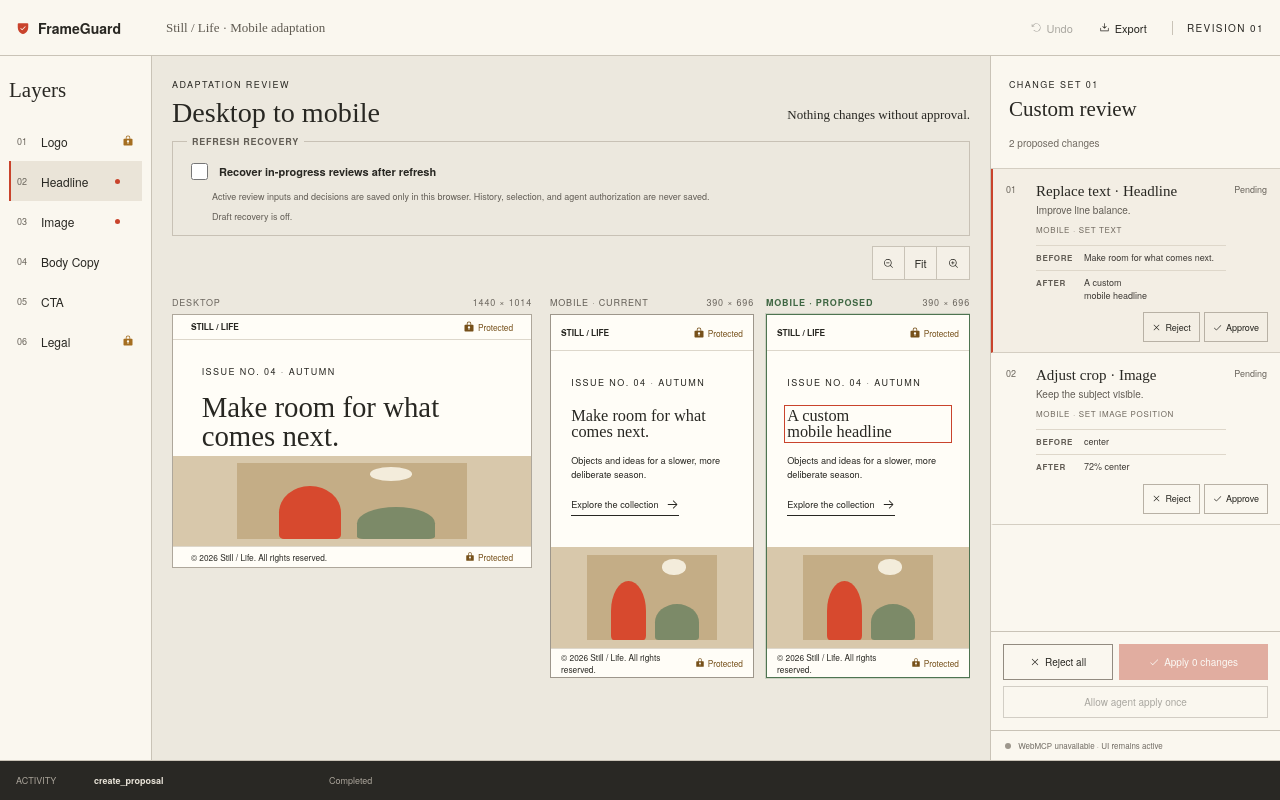
Scenario: reject all preserves an imported committed document
Click the button "Reject all".
click(1058, 662)  # box [1003,644,1113,680]
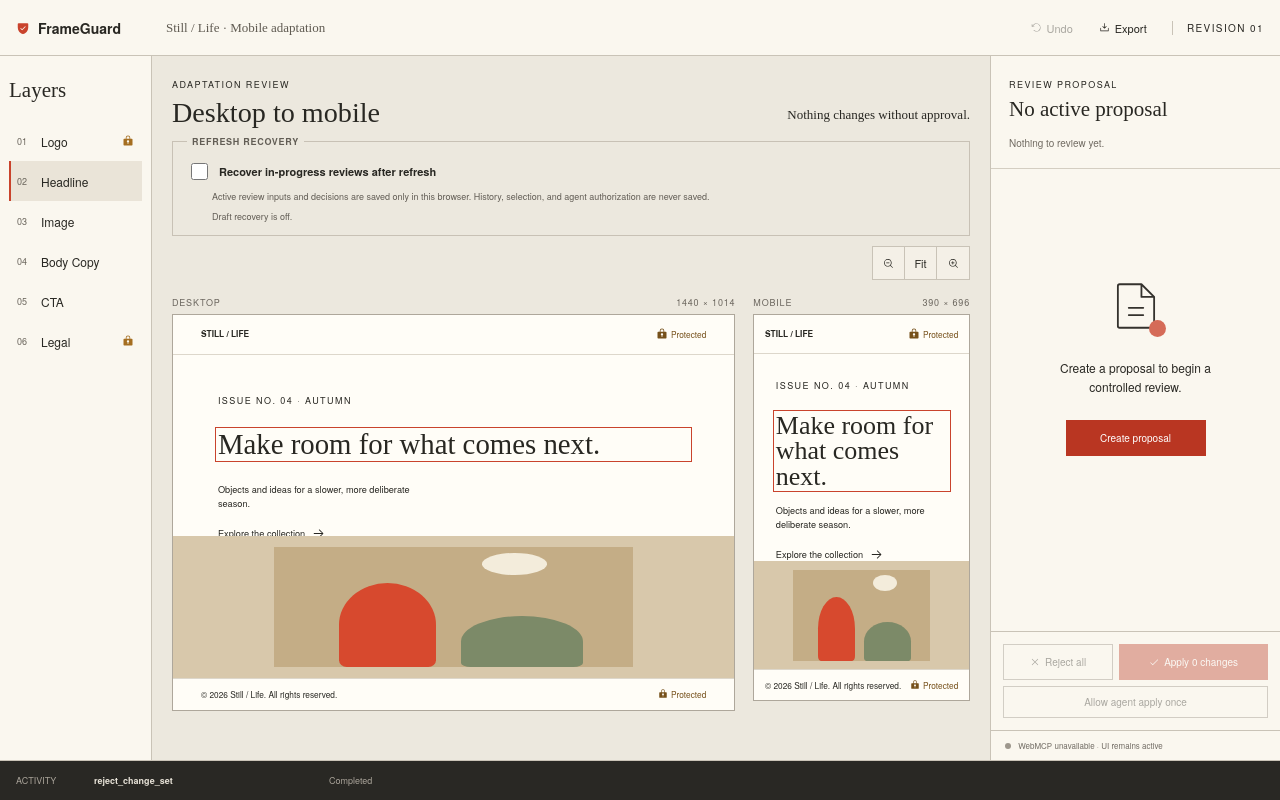
Expected: the heading "No active proposal" is shown, [1009,97,1168,121]
